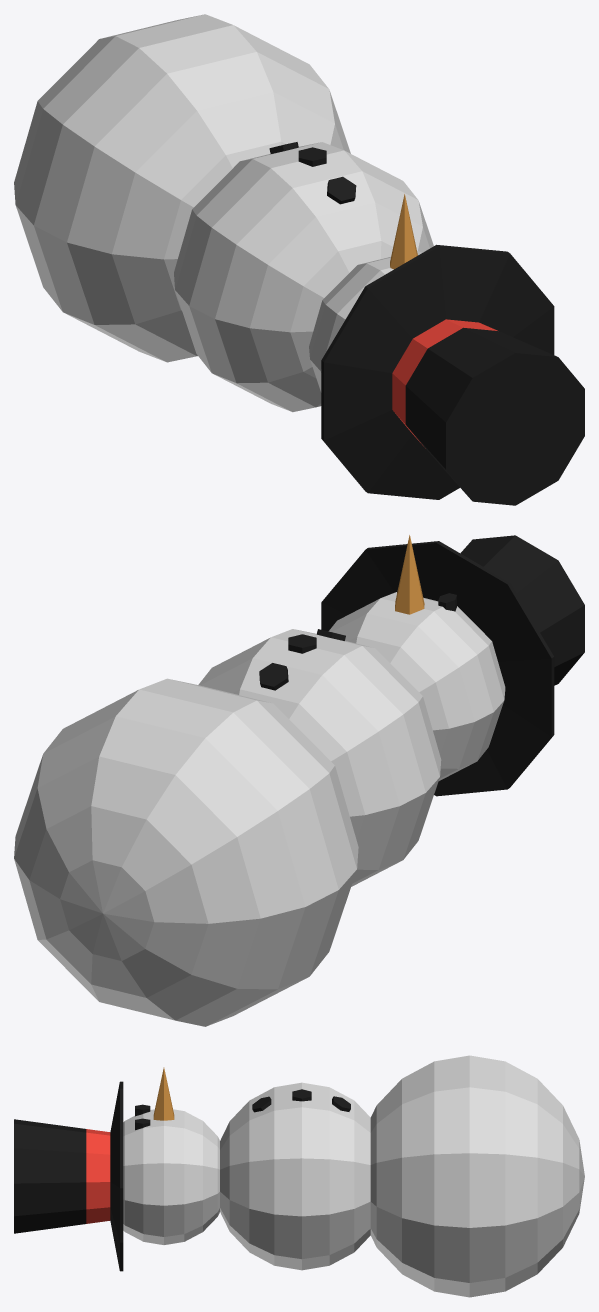
Rendered from 2f50bca4-e001-49b0-beb0-0353d34e8761.glb.
3 renders of one model, top to bottom at view 1: azimuth 30°, elevation 25°; view 2: azimuth 150°, elevation 25°; view 3: azimuth 270°, elevation 25°, orthographic. The views are drawn at different scales.
Parts seen in each view (by area): view 1: pSphere43; view 2: pSphere43; view 3: pSphere43.
Boxes of the visible parts, x1=… form: pSphere43: x1=14, y1=14, x2=584, y2=505; pSphere43: x1=14, y1=535, x2=584, y2=1026; pSphere43: x1=14, y1=1055, x2=584, y2=1297.
Size of the model in its own units: 145 by 140 by 339.
